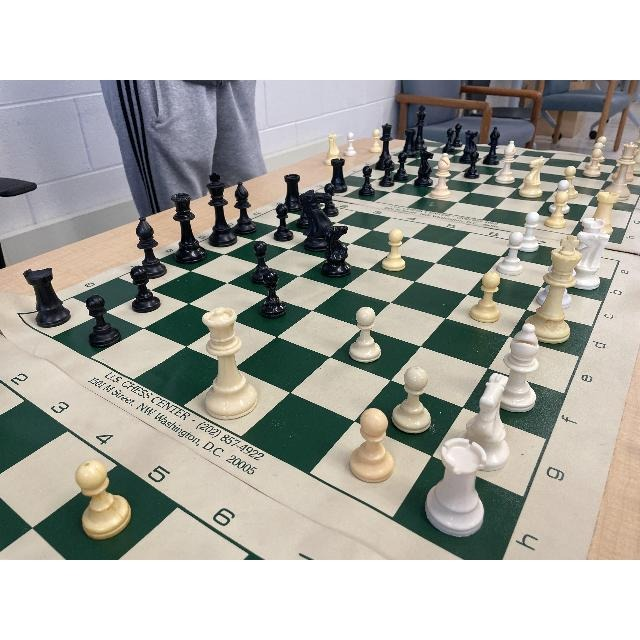black-bishop: (134, 214, 168, 279), (233, 181, 259, 234), (484, 126, 502, 164)
black-king: (207, 172, 239, 248), (413, 105, 428, 153)
black-knight: (304, 191, 335, 252), (321, 226, 352, 280), (415, 148, 435, 188), (459, 130, 479, 163)
black-pawn: (86, 293, 122, 350), (128, 264, 161, 311), (258, 269, 286, 316), (251, 241, 273, 283), (273, 203, 295, 241), (357, 164, 378, 198), (297, 193, 315, 231), (322, 184, 340, 218), (377, 156, 396, 187), (393, 152, 410, 182), (463, 150, 481, 177), (441, 127, 456, 152), (452, 121, 463, 146)
black-queen: (170, 192, 210, 265), (376, 124, 395, 170)
black-rook: (25, 266, 73, 327), (280, 174, 303, 210), (329, 158, 349, 194), (403, 127, 418, 156)
white-bishop: (498, 322, 540, 414), (429, 152, 453, 199), (495, 139, 517, 183)
white-king: (523, 234, 584, 345)
white-knight: (463, 370, 510, 471), (569, 231, 609, 290), (520, 156, 546, 199)
white-pawn: (76, 461, 130, 538), (346, 409, 396, 485), (389, 367, 433, 431), (348, 305, 382, 362), (469, 271, 502, 323), (499, 231, 525, 275), (381, 229, 407, 271), (544, 189, 570, 228), (518, 211, 541, 252), (551, 180, 572, 214), (584, 148, 604, 178), (562, 165, 579, 199), (587, 141, 604, 169), (592, 136, 607, 162)
white-queen: (198, 308, 259, 418), (606, 140, 639, 200)
white-rook: (424, 437, 485, 540), (576, 218, 605, 270), (590, 191, 620, 235)
